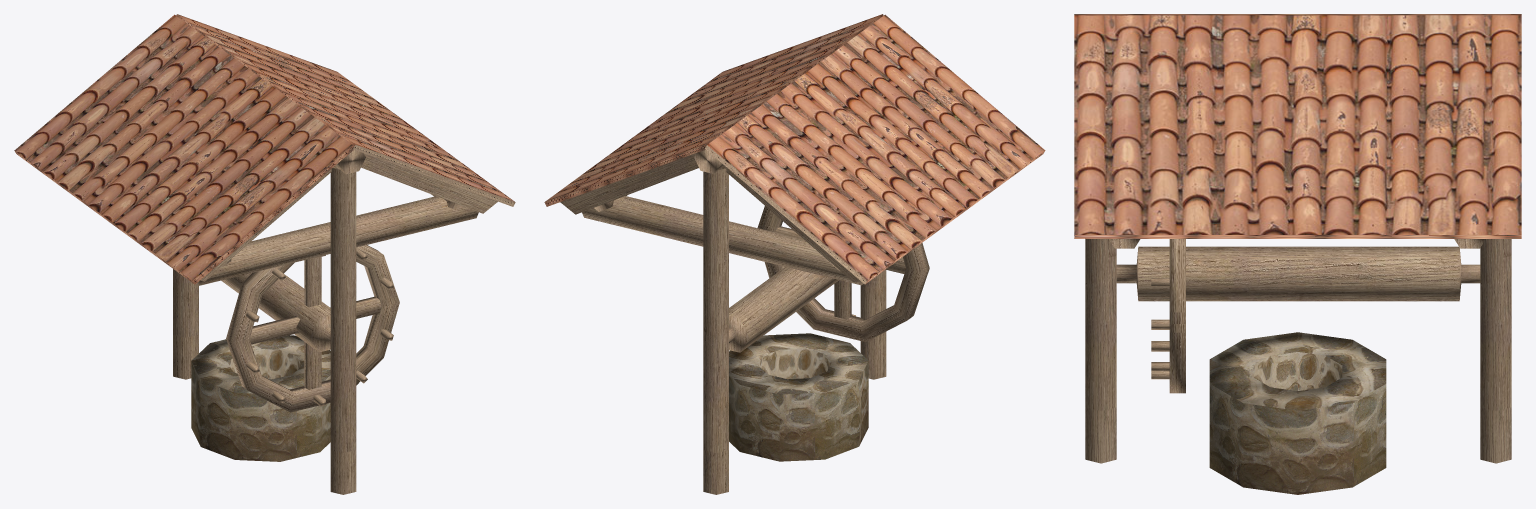
Rendered from kladenec_test_01 (1).fbx.
3 renders of one model, left to right at view 1: azimuth 30°, elevation 25°; view 2: azimuth 150°, elevation 25°; view 3: azimuth 270°, elevation 25°, orthographic. The views are drawn at different scales.
Parts seen in each view (by area): view 1: group2; view 2: group2; view 3: group2.
Part boxes in pixels (x1,y1,x2,y2): group2: (14, 14, 515, 494); group2: (544, 14, 1045, 494); group2: (1074, 14, 1521, 494).
Size of the model in its own units: 331 by 344 by 316.
Materials: 5 (5 with a texture image).
